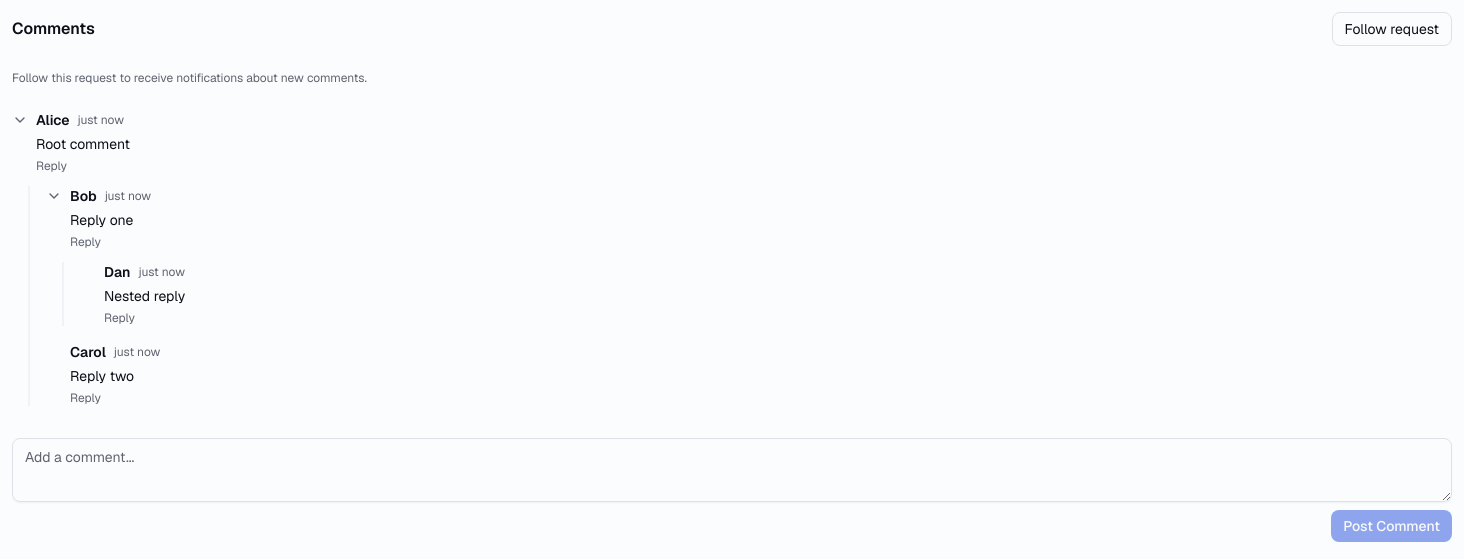
CommentThread › threaded rendering › should re-expand the thread when "Show N replies" is clicked
This screenshot has width=1464, height=559.
Click the button named "collapse thread" next to "Alice" at (20, 120), box x1=12 y1=112 x2=28 y2=128
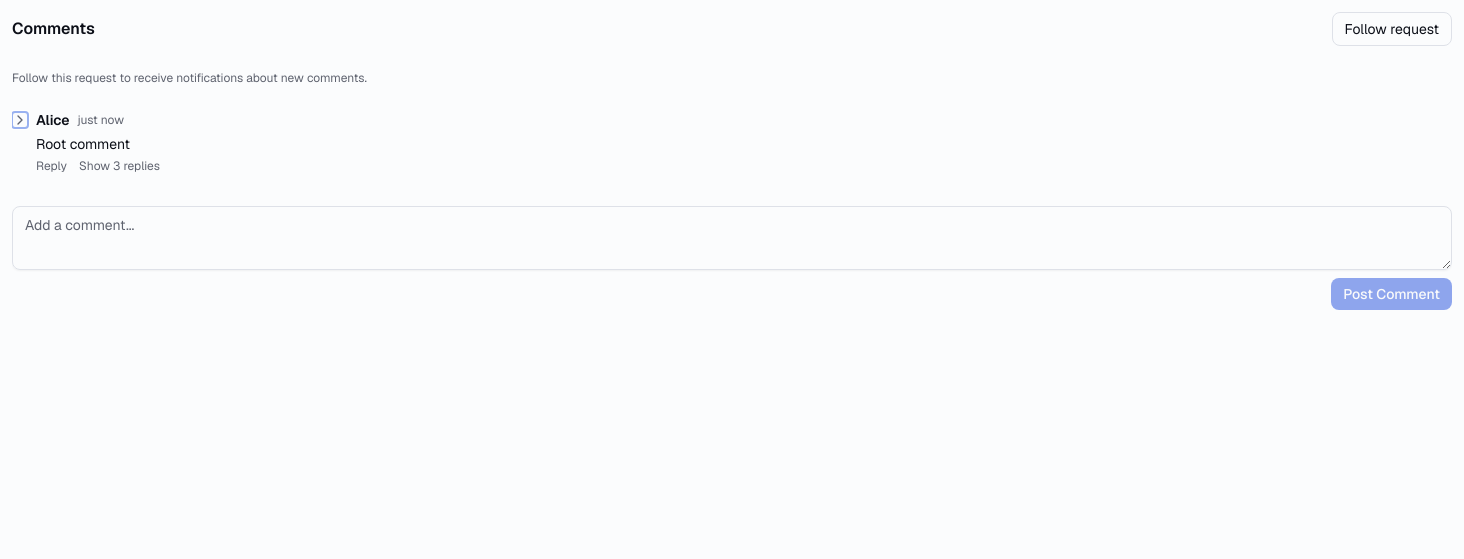
Click the button "Show 3 replies" at (120, 166), box x1=79 y1=158 x2=160 y2=174
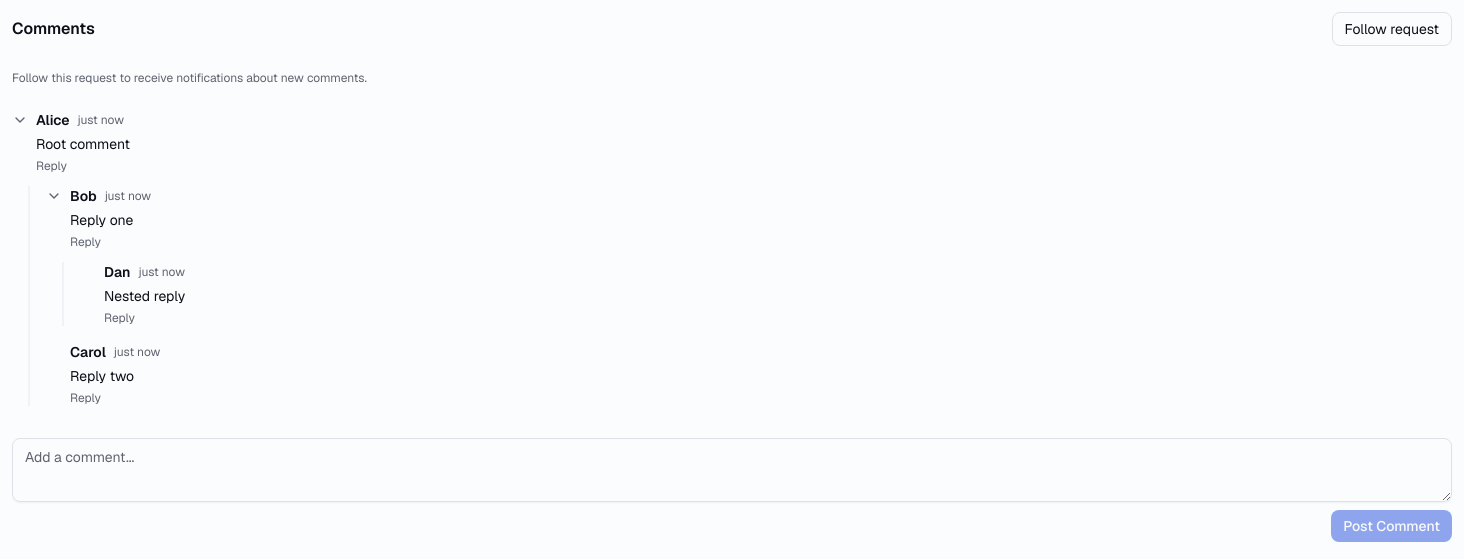
Now the text "Reply one" is shown, box x1=70 y1=211 x2=133 y2=229
Now the text "Nested reply" is shown, box x1=104 y1=287 x2=185 y2=305
